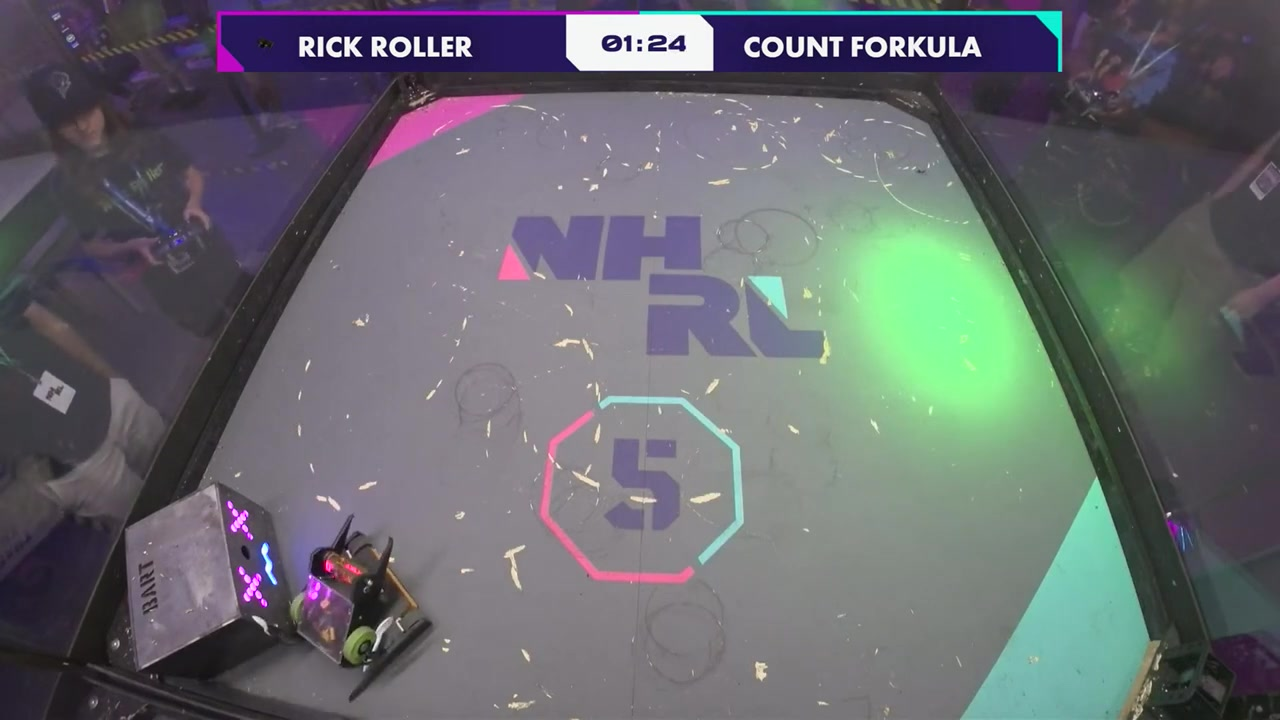combatbot: (286, 548, 394, 668), (338, 530, 434, 663)
housebot: (112, 482, 289, 676)
